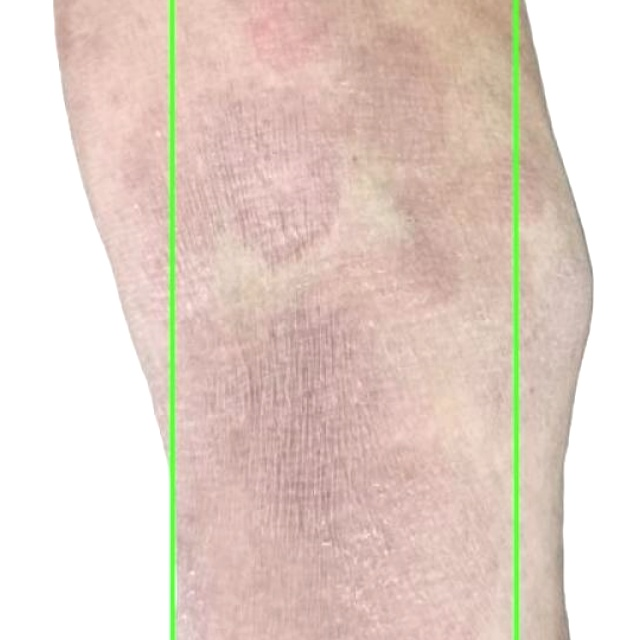Eczema: (0, 0, 173, 639)
